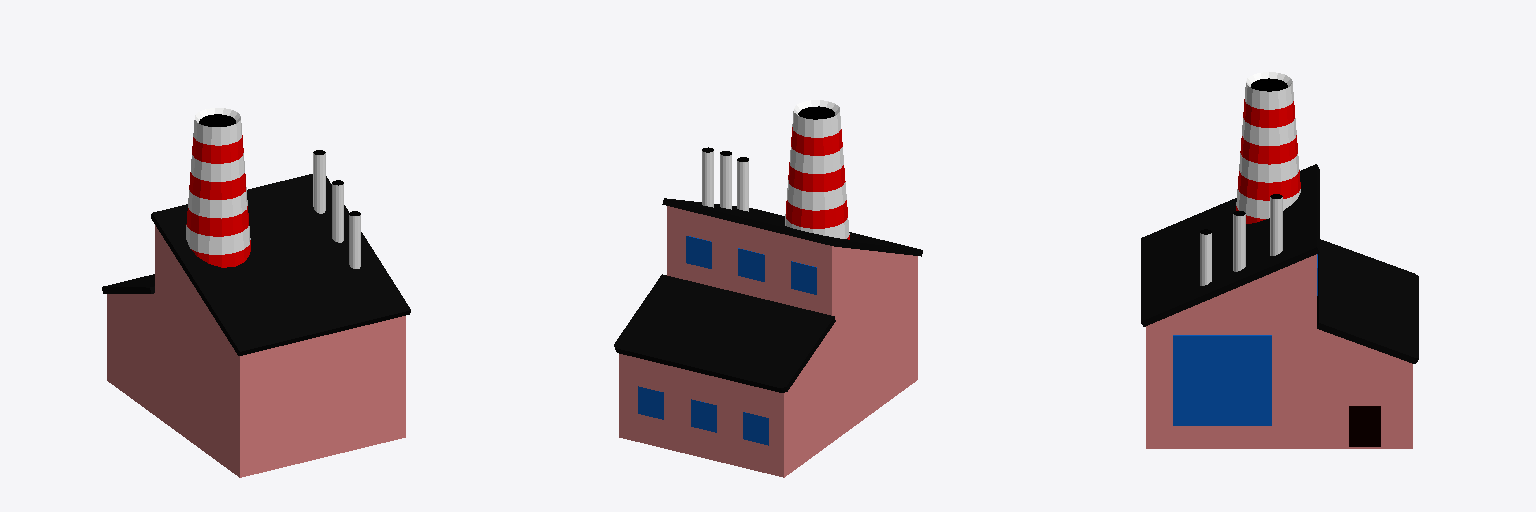
Rendered from Factory.obj.
3 renders of one model, left to right at view 1: azimuth 30°, elevation 25°; view 2: azimuth 150°, elevation 25°; view 3: azimuth 270°, elevation 25°, orthographic.
Visible parts, largest first — view 1: Cube.004; view 2: Cube.004; view 3: Cube.004.
Boxes of the visible parts, x1,y1,x2,y2 form: Cube.004: [102, 108, 410, 477]; Cube.004: [614, 100, 922, 477]; Cube.004: [1141, 72, 1418, 448].
Bounding box in the file's own units: 4.14 × 7.01 × 5.79.